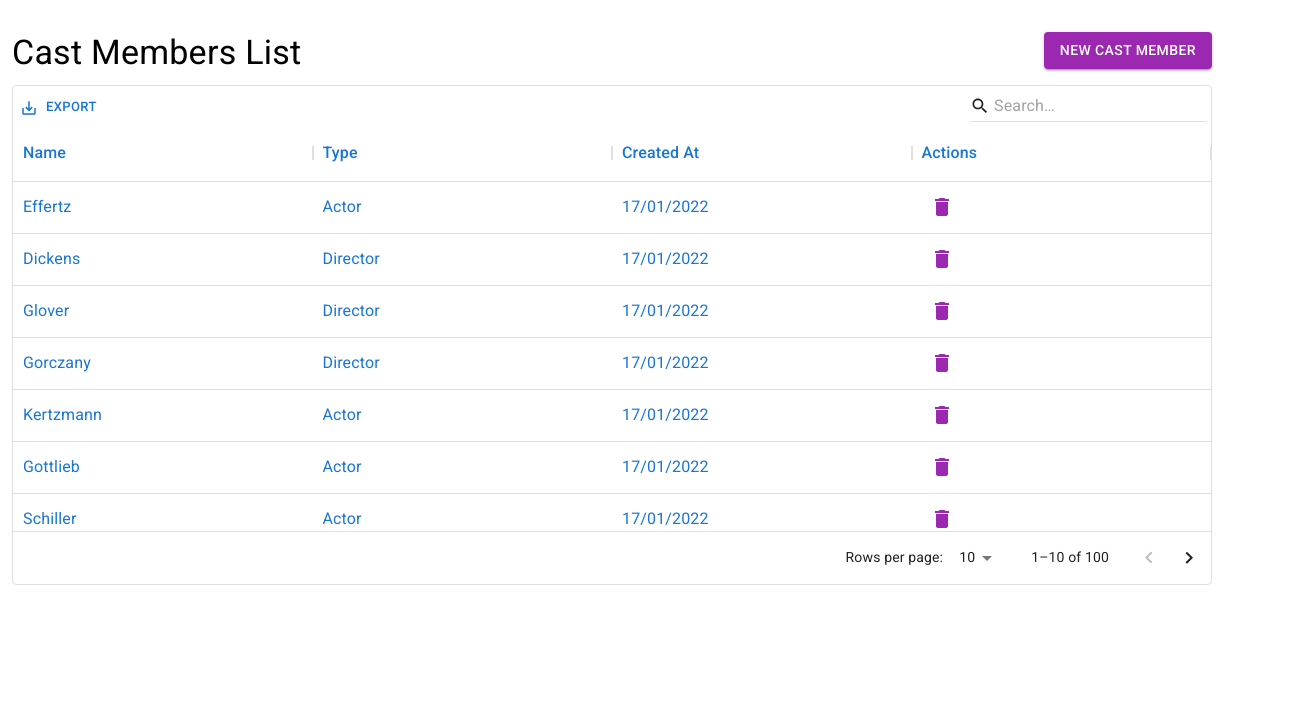
Scenario: CastMemberList › should handle delete category error
Expected: the text "Effertz" is shown, x1=23 y1=195 x2=71 y2=219
Click the button with test id "delete-button" in the row of "Effertz".
click(942, 207)  # box x1=922 y1=187 x2=962 y2=227
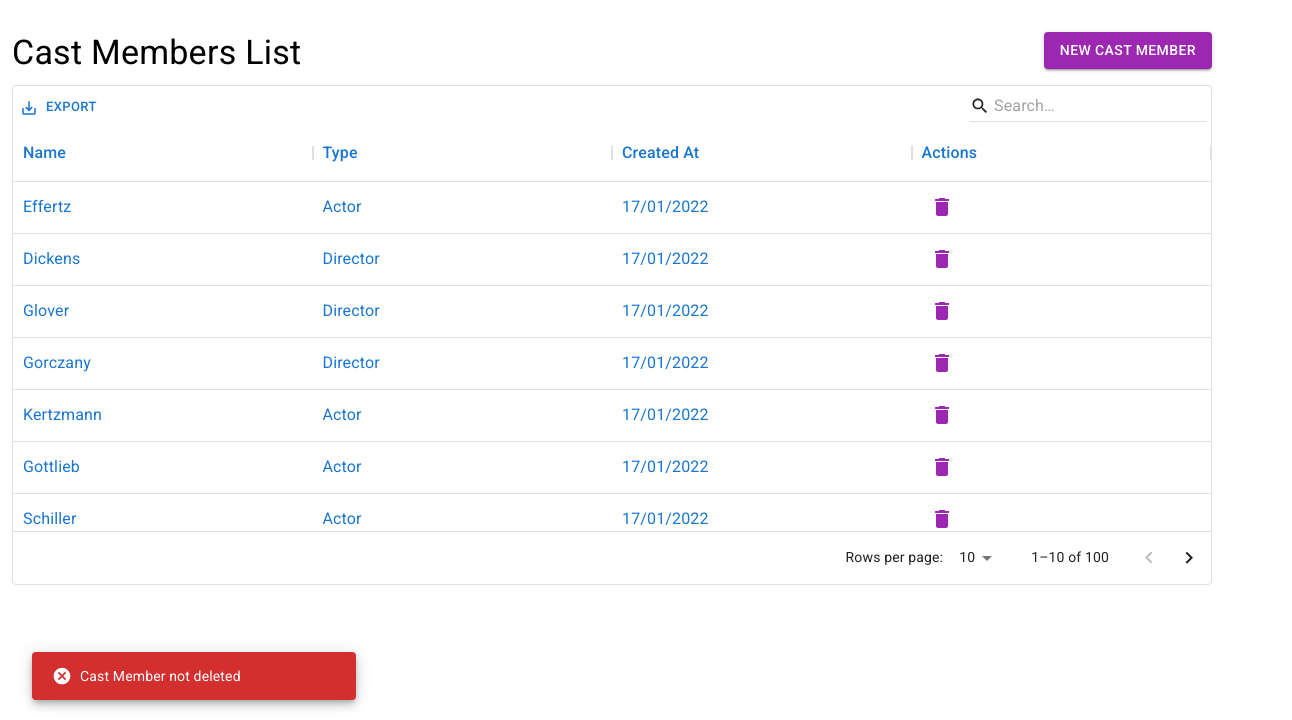
Expected: the text "Cast Member not deleted" is shown, x1=52 y1=666 x2=241 y2=686
